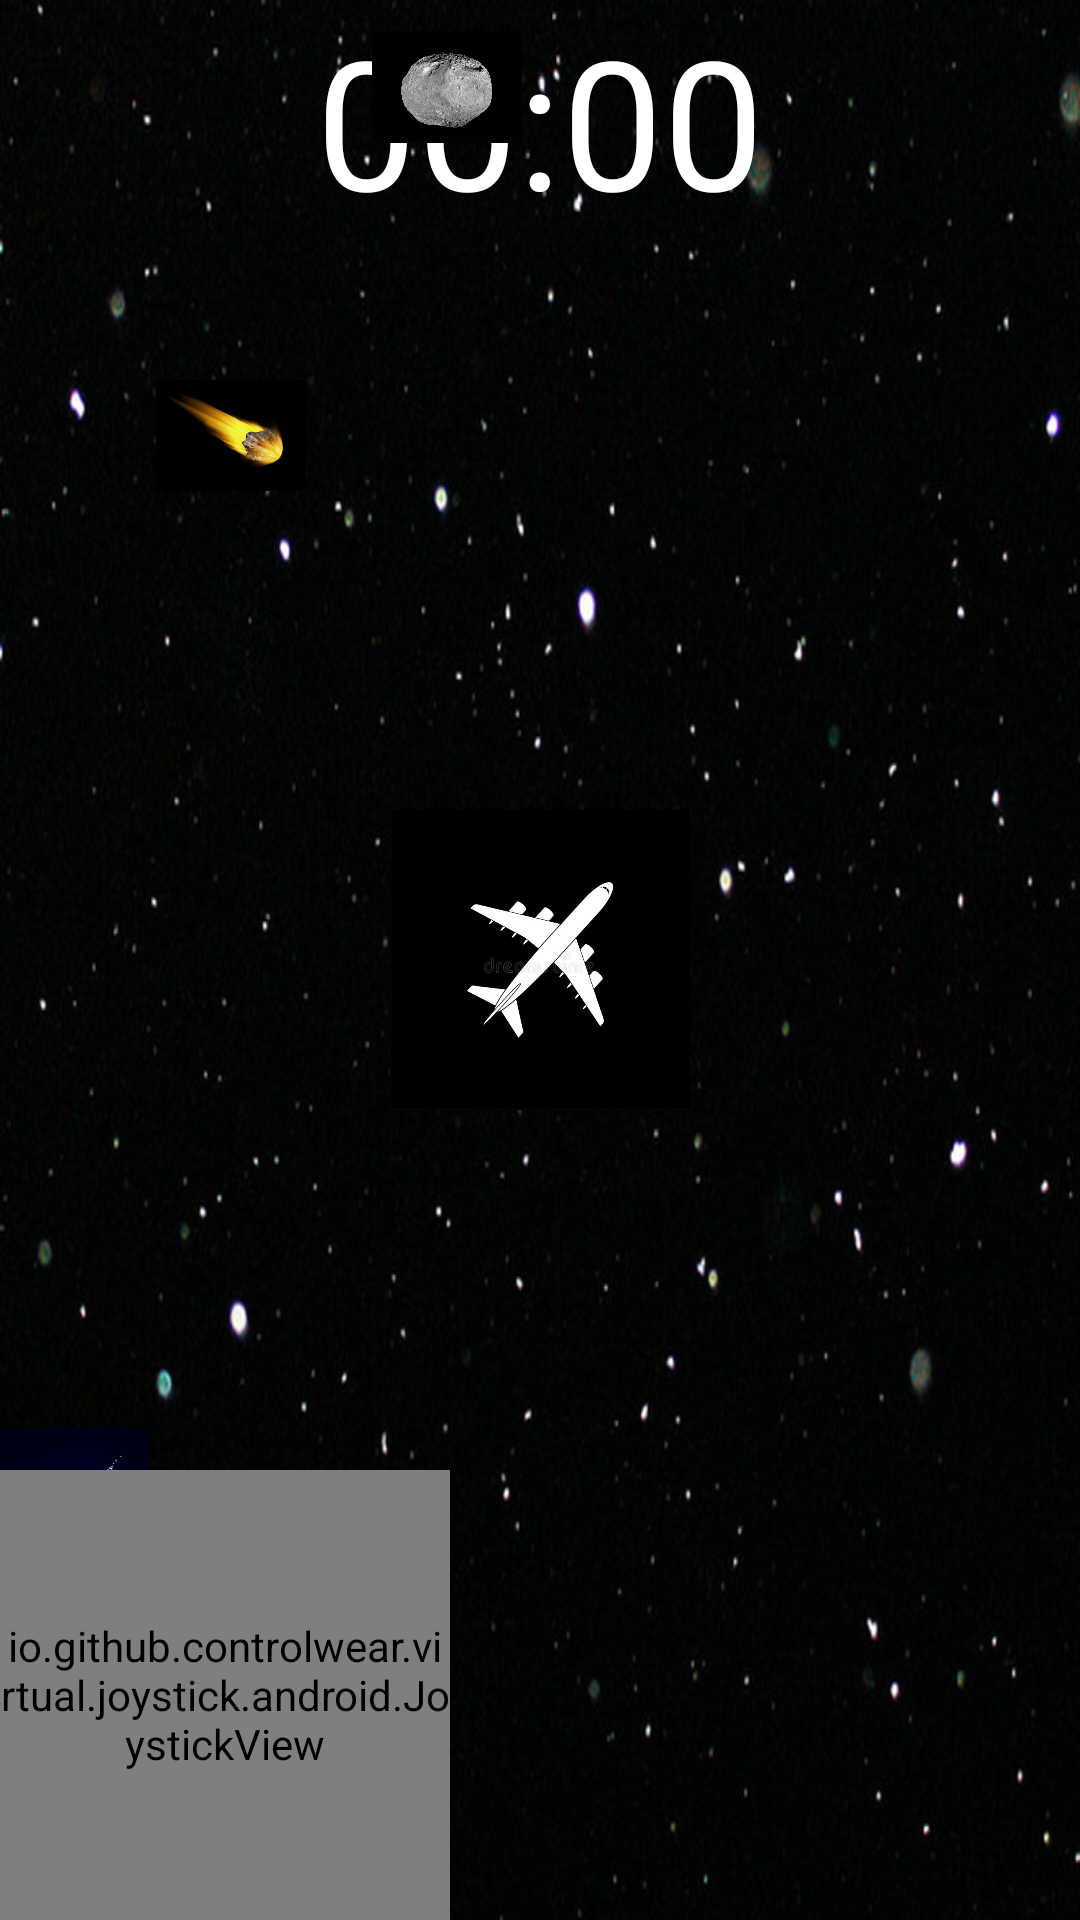

Named icons in this screenshot (1080px x 1920px) and their centers, (x,y):
plane: (540,960)
